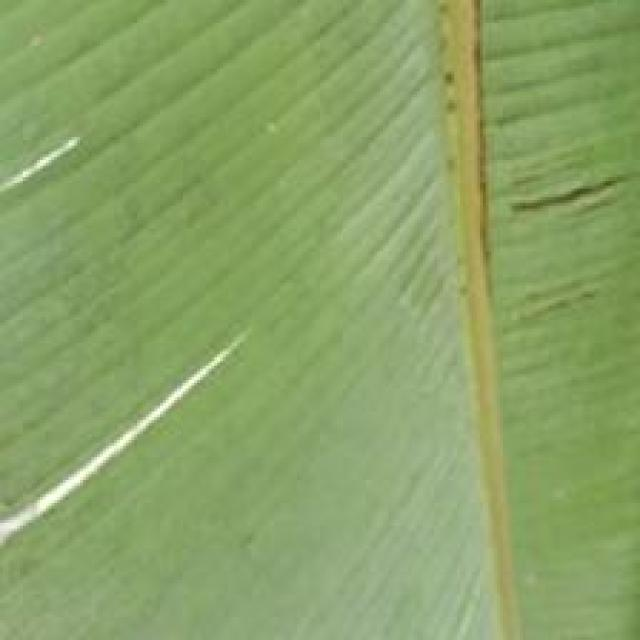Black_leaf_spot: (0, 0, 627, 637)
